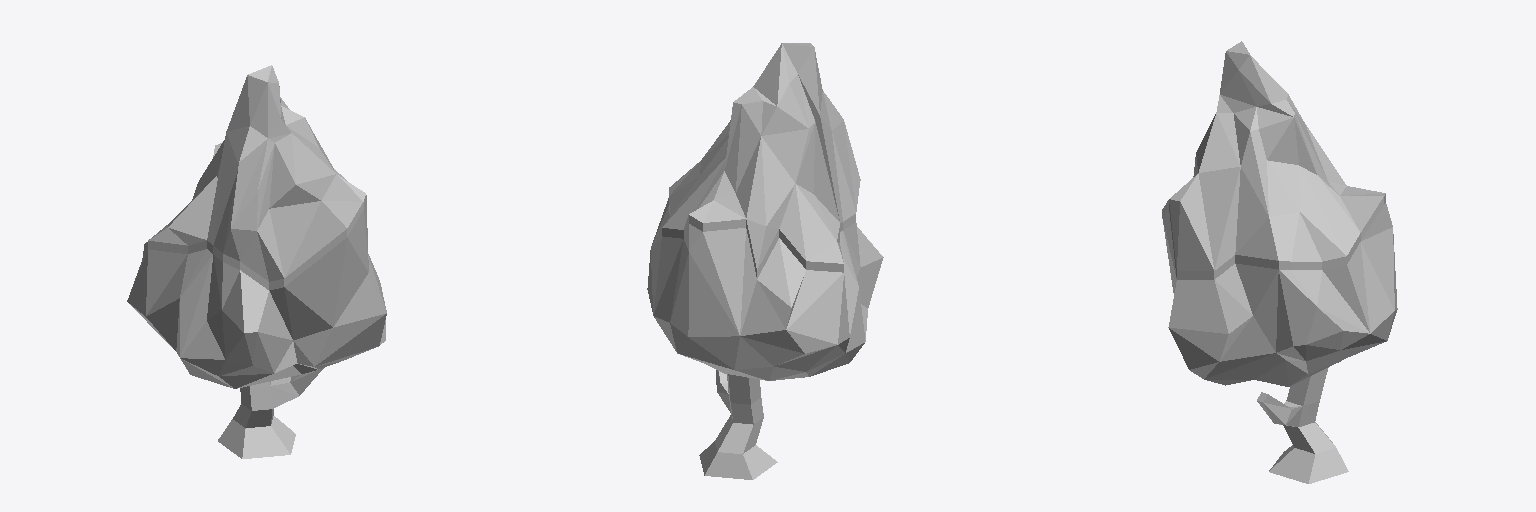
The model's file is tree03snow.obj.
The picture shows the model from 3 angles: view 1: azimuth 30°, elevation 25°; view 2: azimuth 150°, elevation 25°; view 3: azimuth 270°, elevation 25°; orthographic projection.
Parts seen in each view (by area): view 1: SM_Env_Tree_03_Snow_Mesh.005; view 2: SM_Env_Tree_03_Snow_Mesh.005; view 3: SM_Env_Tree_03_Snow_Mesh.005.
Part boxes in pixels (x1,y1,x2,y2): SM_Env_Tree_03_Snow_Mesh.005: (127, 65, 386, 458); SM_Env_Tree_03_Snow_Mesh.005: (647, 43, 883, 479); SM_Env_Tree_03_Snow_Mesh.005: (1162, 41, 1397, 483).
Bounding box in the file's own units: 1.55 × 3.01 × 1.59.